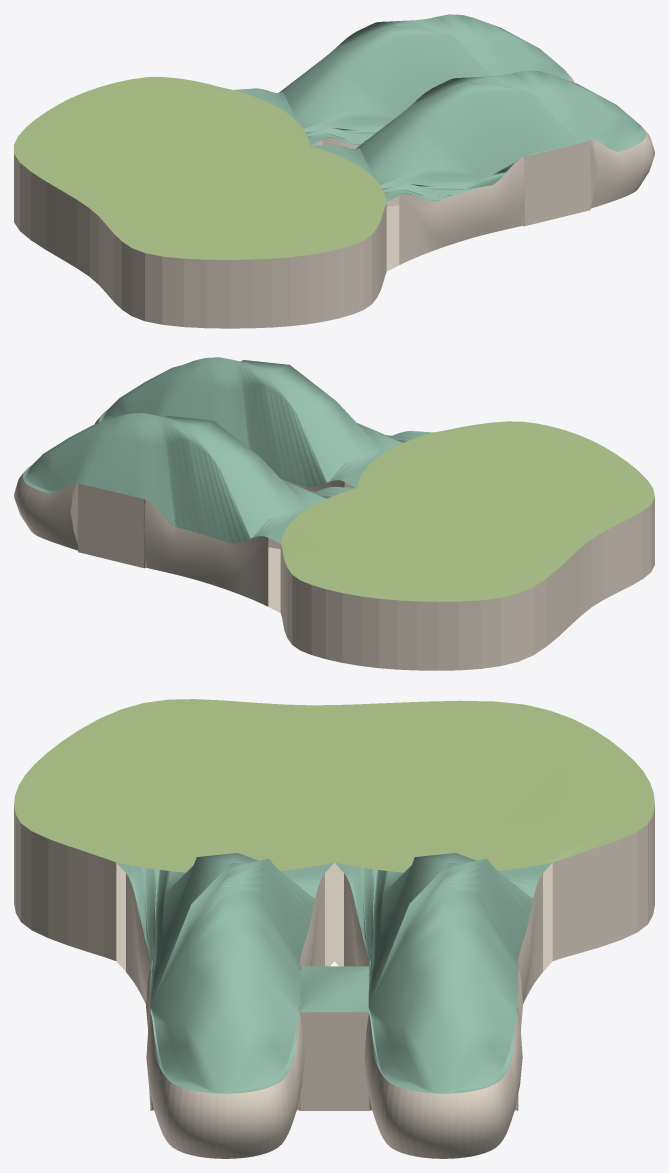
The model's file is loop-source.glb.
3 renders of one model, top to bottom at view 1: azimuth 30°, elevation 25°; view 2: azimuth 150°, elevation 25°; view 3: azimuth 270°, elevation 25°, orthographic. The views are drawn at different scales.
Parts seen in each view (by area): view 1: baseline/top, baseline/rounded-coast, seaward-north/top, seaward-south/top, seaward-north/rounded-coast, seaward-north/bank-connection-positive, seaward-north/soil-bottom; view 2: baseline/top, baseline/rounded-coast, seaward-south/top, seaward-north/top, seaward-south/rounded-coast, seaward-south/bank-connection-negative, seaward-south/soil-bottom; view 3: baseline/top, seaward-south/top, seaward-north/top, baseline/rounded-coast, seaward-north/rounded-coast, seaward-south/rounded-coast, connection/rounded-coast, baseline/soil-bottom, connection/top.
Part boxes in pixels (box(x1,y1,x2,y2)): baseline/top: box(14, 77, 386, 259); baseline/rounded-coast: box(14, 154, 386, 328); seaward-north/top: box(311, 70, 645, 201); seaward-south/top: box(234, 14, 569, 145); seaward-north/rounded-coast: box(386, 129, 654, 264); seaward-north/bank-connection-positive: box(524, 141, 590, 226); seaward-north/soil-bottom: box(386, 205, 399, 271); baseline/top: box(281, 421, 654, 601); baseline/rounded-coast: box(280, 497, 654, 670); seaward-south/top: box(23, 413, 355, 543); seaward-north/top: box(99, 357, 432, 487); seaward-south/rounded-coast: box(14, 471, 280, 606); seaward-south/bank-connection-negative: box(78, 483, 143, 567); seaward-south/soil-bottom: box(268, 547, 280, 612); baseline/top: box(14, 699, 654, 872); seaward-south/top: box(335, 853, 551, 1093); seaward-north/top: box(117, 853, 333, 1093); baseline/rounded-coast: box(14, 806, 654, 960); seaward-north/rounded-coast: box(126, 873, 324, 1158); seaward-south/rounded-coast: box(344, 873, 542, 1158); connection/rounded-coast: box(300, 1012, 368, 1110); baseline/soil-bottom: box(116, 863, 552, 962); connection/top: box(300, 966, 368, 1012).
Size of the model in its own units: 8.09 by 1.88 by 5.88.
